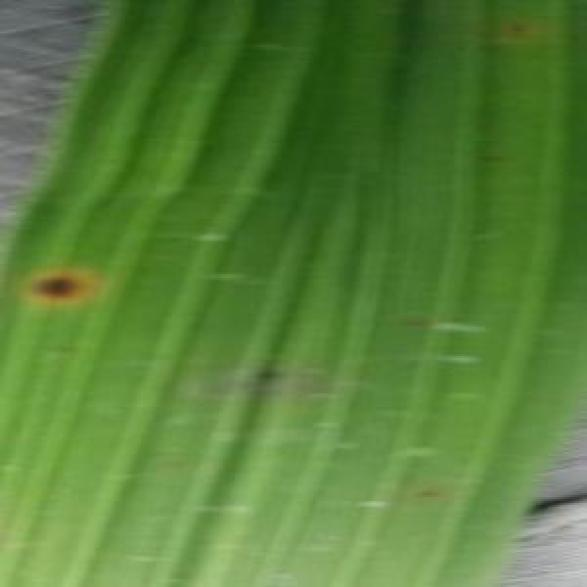Brown_Spot: (16, 260, 96, 307), (407, 477, 444, 505), (247, 362, 286, 385), (501, 16, 528, 35)
